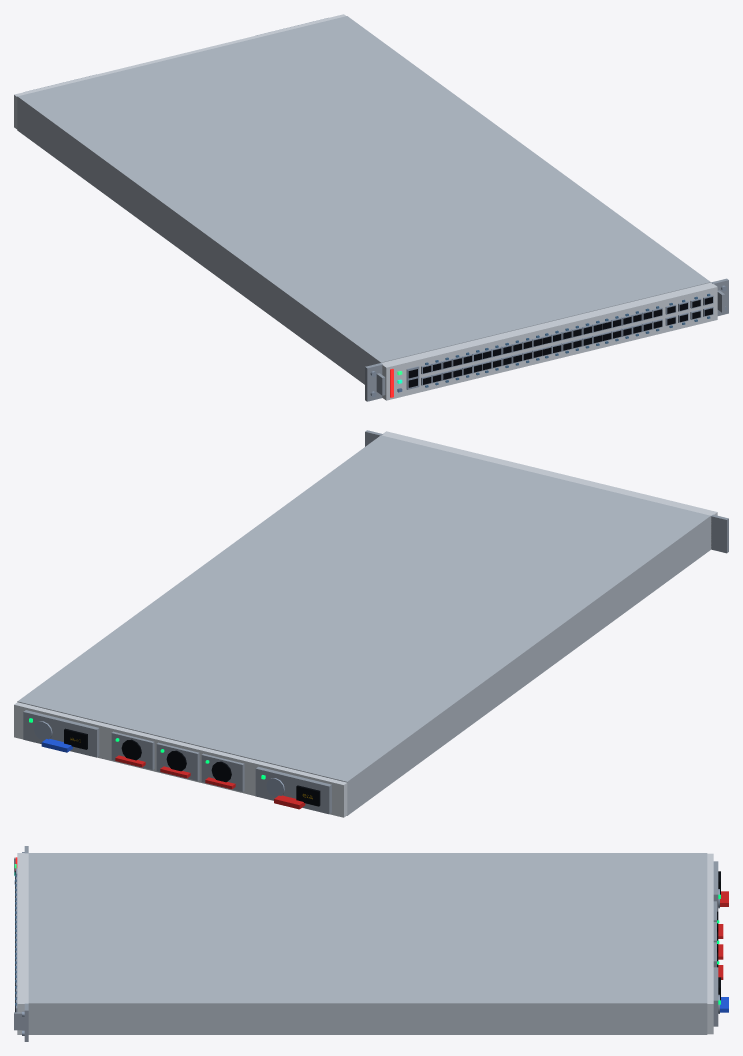
The model's file is h3c_s5130s_ei_family.glb.
The picture shows the model from 3 angles, top to bottom: view 1: azimuth 30°, elevation 25°; view 2: azimuth 150°, elevation 25°; view 3: azimuth 270°, elevation 25°; orthographic projection. The views are drawn at different scales.
Visible parts, largest first — view 1: BATCH_MAT_CHASSIS_BODY, BATCH_MAT_FACEPLATE, BATCH_MAT_CAVITY_DARK, BATCH_MAT_PORT_SHIELD, BATCH_MAT_RACK_EAR; view 2: BATCH_MAT_CHASSIS_BODY, BATCH_MAT_RACK_EAR, BATCH_MAT_FACEPLATE, BATCH_MAT_CAVITY_DARK; view 3: BATCH_MAT_CHASSIS_BODY, BATCH_MAT_FACEPLATE, BATCH_MAT_RACK_EAR, BATCH_MAT_PORT_SHIELD.
Boxes of the visible parts, box(x1,y1,x2,y2) form: BATCH_MAT_CHASSIS_BODY: box(17, 16, 710, 384); BATCH_MAT_FACEPLATE: box(14, 14, 717, 400); BATCH_MAT_CAVITY_DARK: box(408, 297, 712, 387); BATCH_MAT_PORT_SHIELD: box(370, 285, 726, 397); BATCH_MAT_RACK_EAR: box(25, 17, 728, 401); BATCH_MAT_CHASSIS_BODY: box(17, 435, 710, 815); BATCH_MAT_RACK_EAR: box(23, 430, 728, 814); BATCH_MAT_FACEPLATE: box(14, 431, 717, 817); BATCH_MAT_CAVITY_DARK: box(64, 728, 320, 806); BATCH_MAT_CHASSIS_BODY: box(28, 853, 707, 1034); BATCH_MAT_FACEPLATE: box(17, 853, 713, 1034); BATCH_MAT_RACK_EAR: box(14, 846, 718, 1041); BATCH_MAT_PORT_SHIELD: box(15, 852, 719, 1035).
Size of the model in its own units: 0.4826 by 0.0435 by 0.885.
